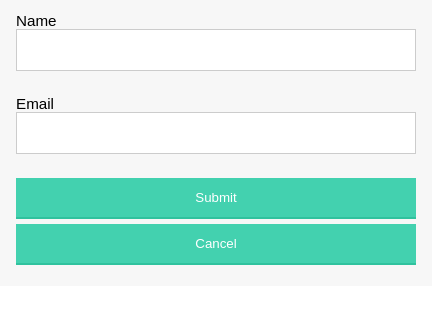
Test case: FormComponent › Validate form › must show form validation
This screenshot has width=433, height=326.
Click the button "Submit".
click(216, 198)  # box [16, 178, 416, 219]
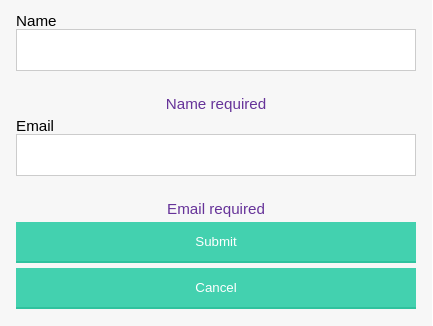
Check: the text "Name required" is shown, box [166, 95, 266, 112]
Check: the text "Email required" is shown, box [167, 200, 265, 217]
